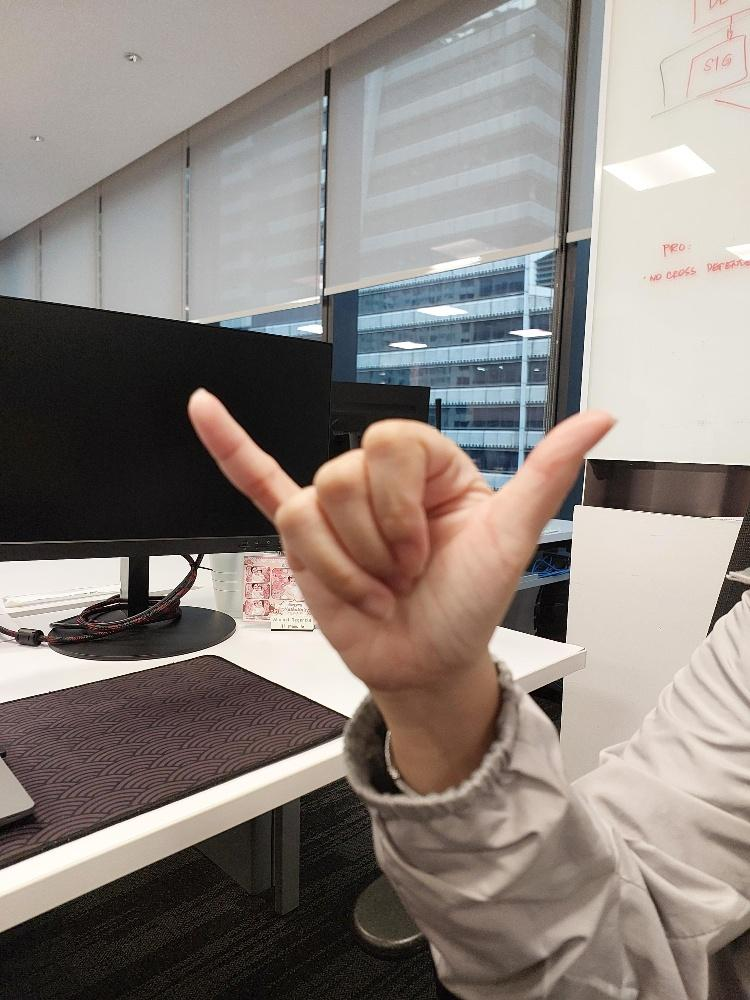y: (185, 389, 616, 670)
